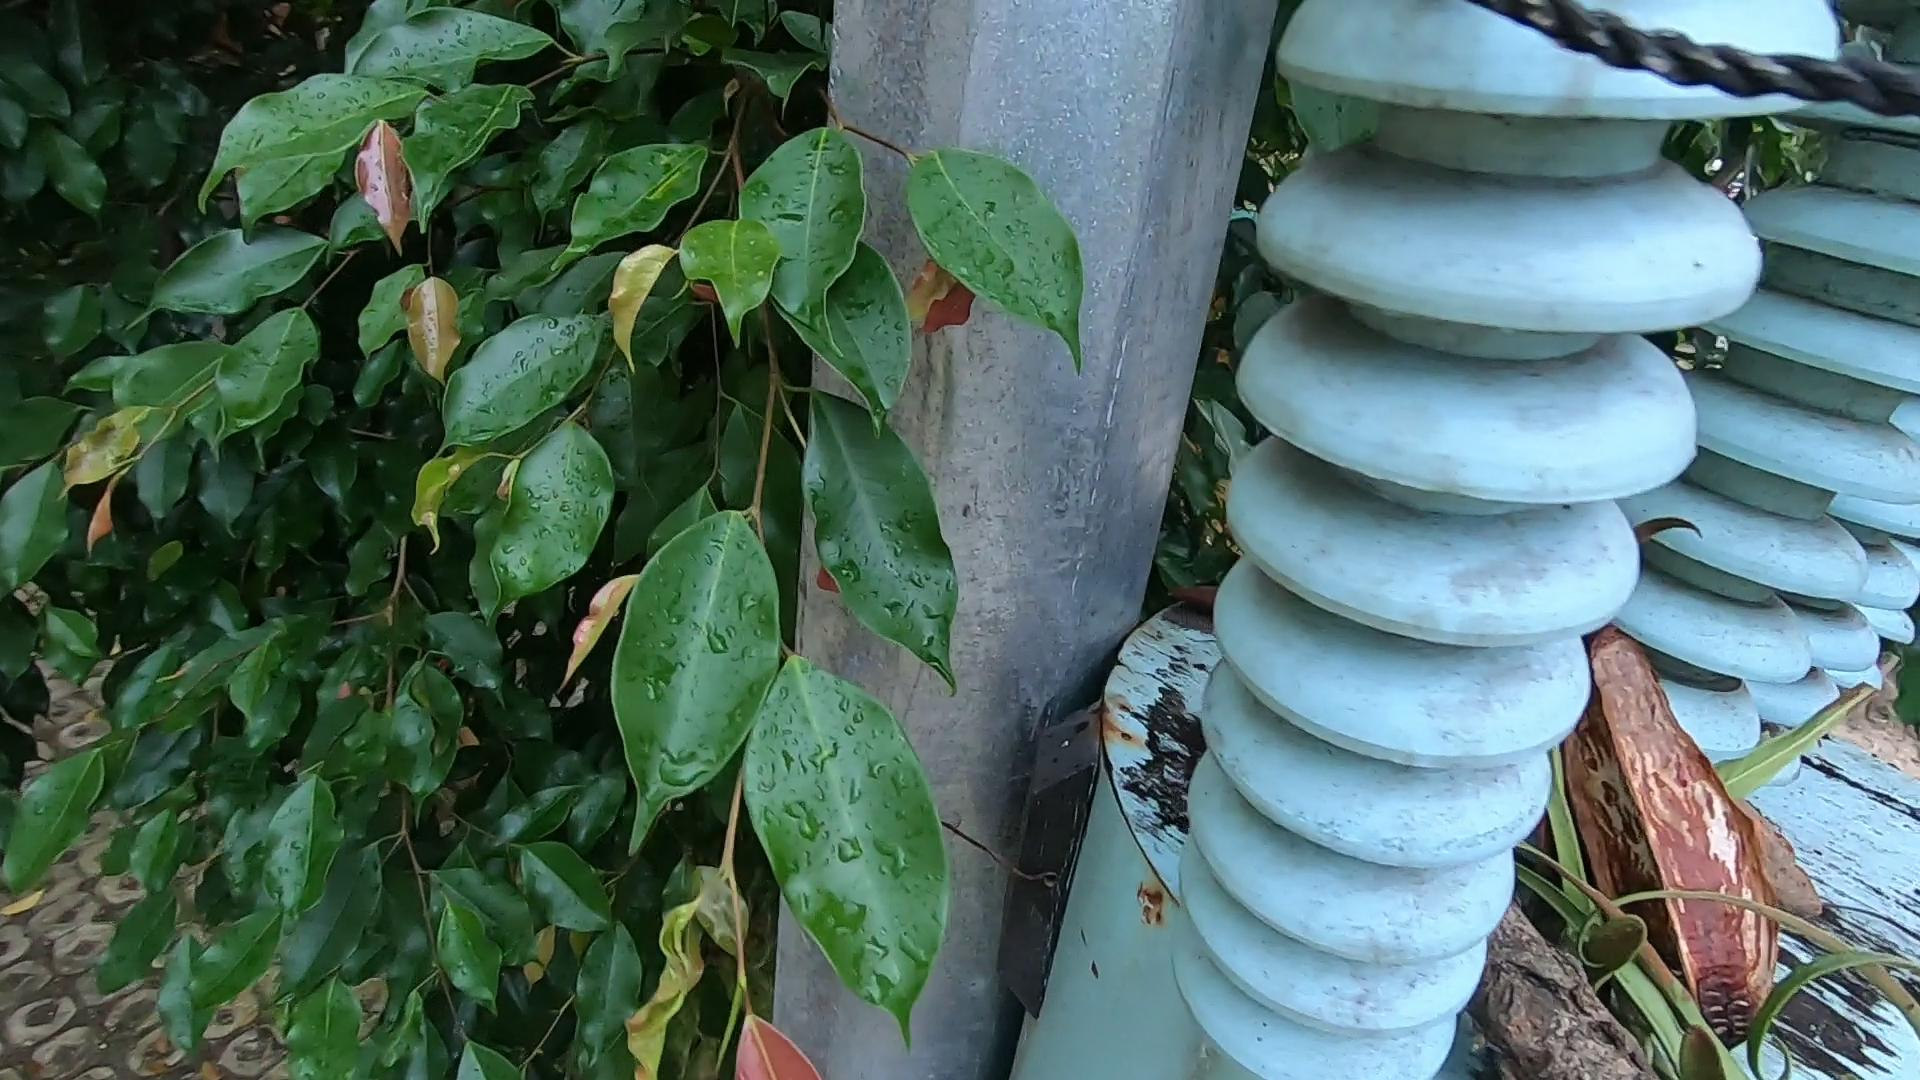branch with leaves: (1445, 799, 1842, 1080)
mahogany fruit: (1531, 615, 1779, 1013), (1712, 767, 1870, 1004)
